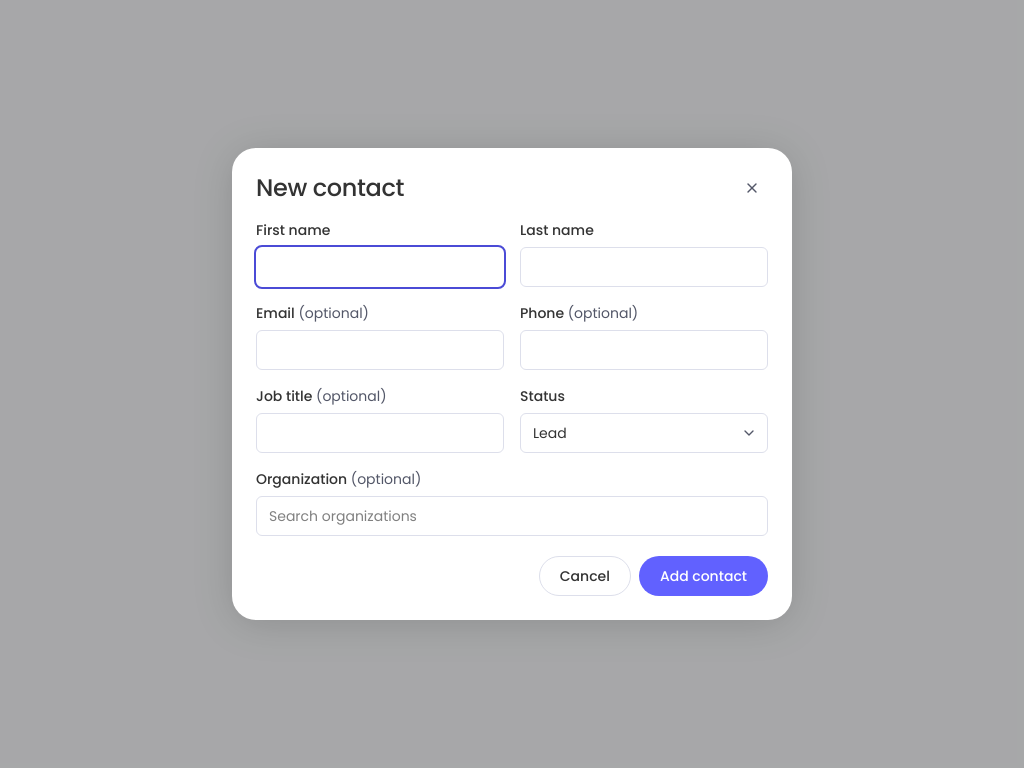
contact form › shows the backend’s duplicate email message under the field
The width and height of the screenshot is (1024, 768).
expect the dialog "New contact" is shown: met, box [232, 148, 792, 620]
Step 1. Type "Other" into the field labelled "First name" → (380, 267), box [256, 247, 504, 287]
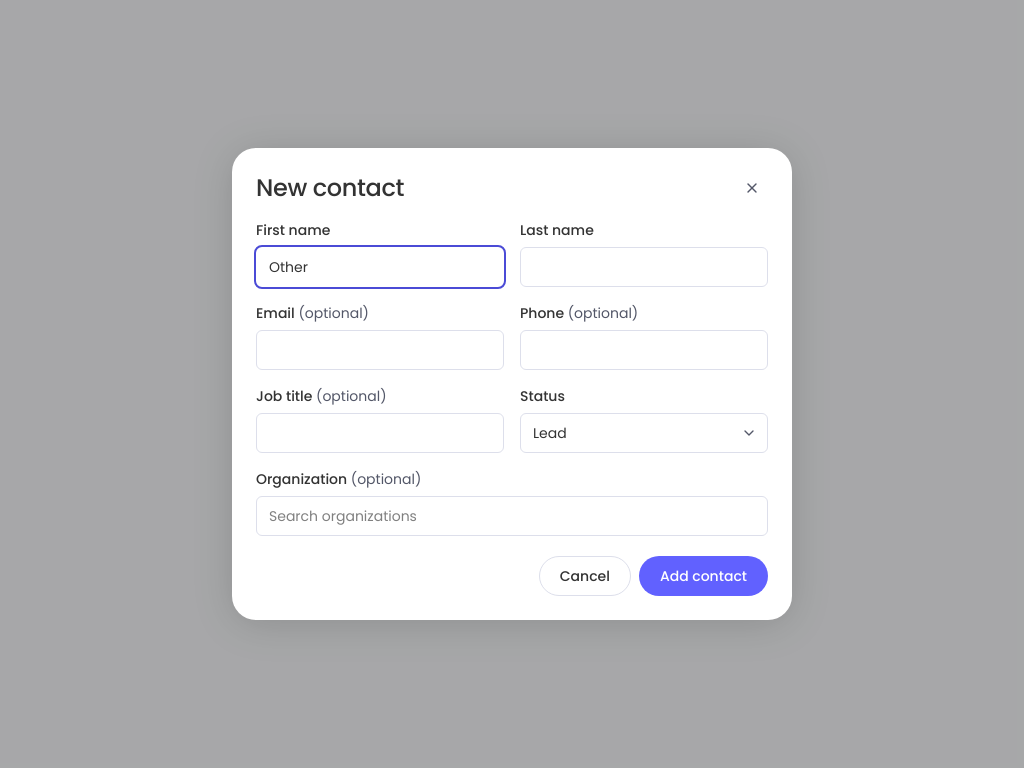
Step 2. Type "Person" into the field labelled "Last name" → (644, 267), box [520, 247, 768, 287]
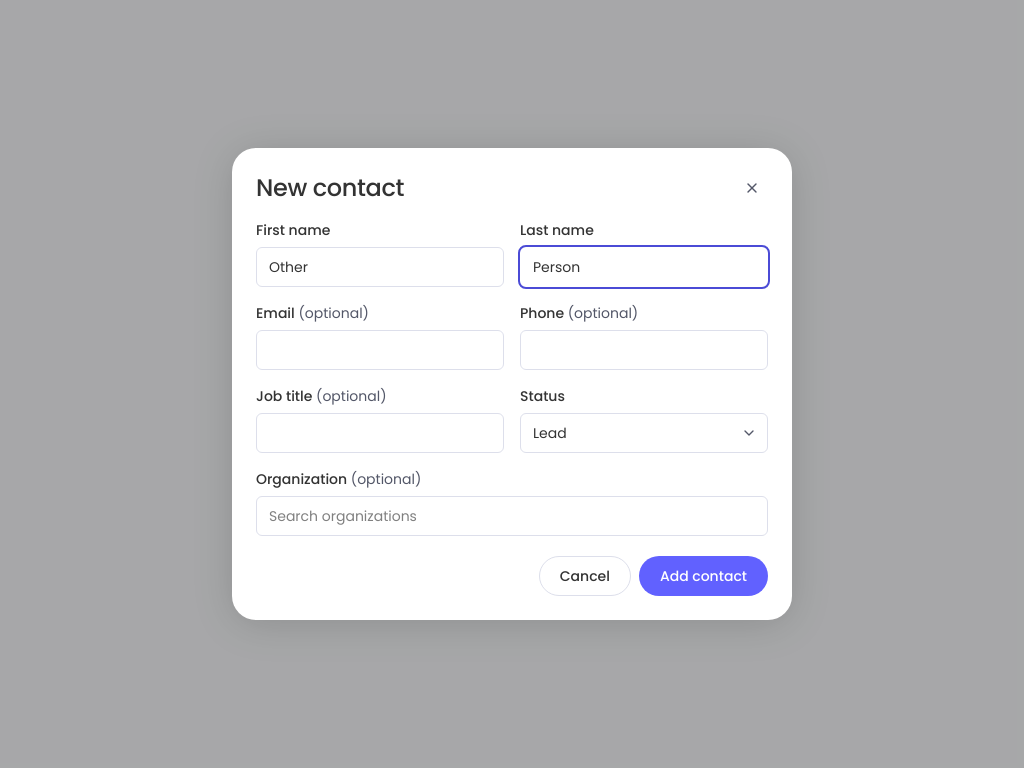
Step 3. Type "dana@acme.example" into the field labelled "Email (optional)" → (380, 350), box [256, 330, 504, 370]
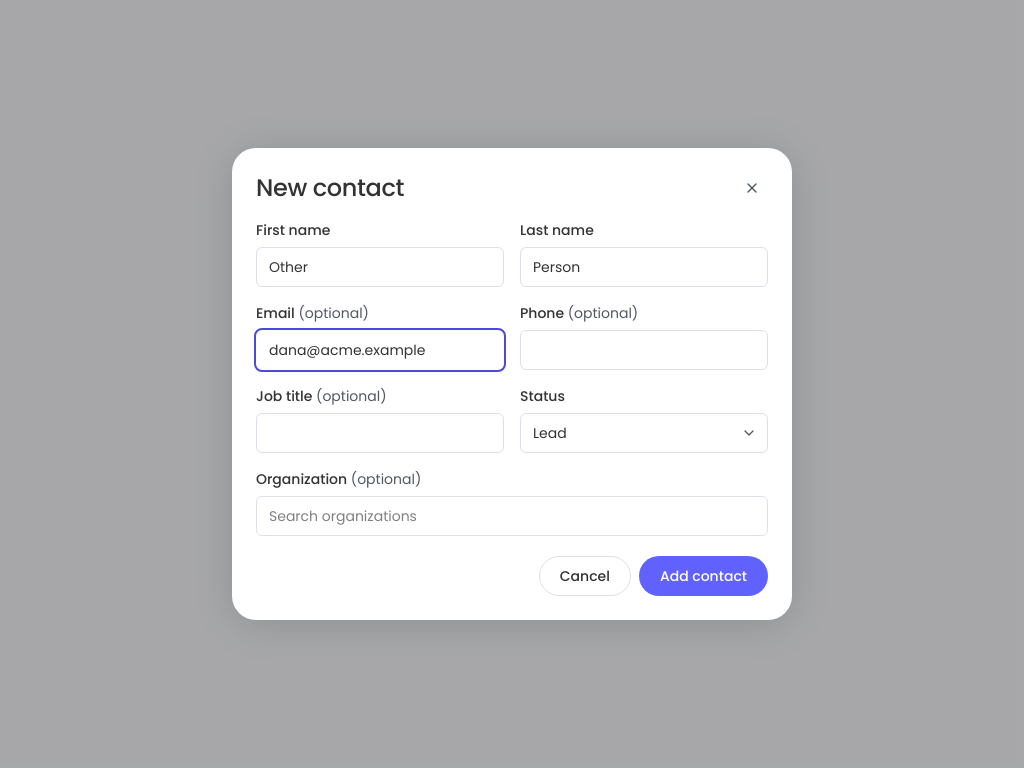
Step 4. Click the button "Add contact" → (703, 576), box [639, 556, 768, 596]
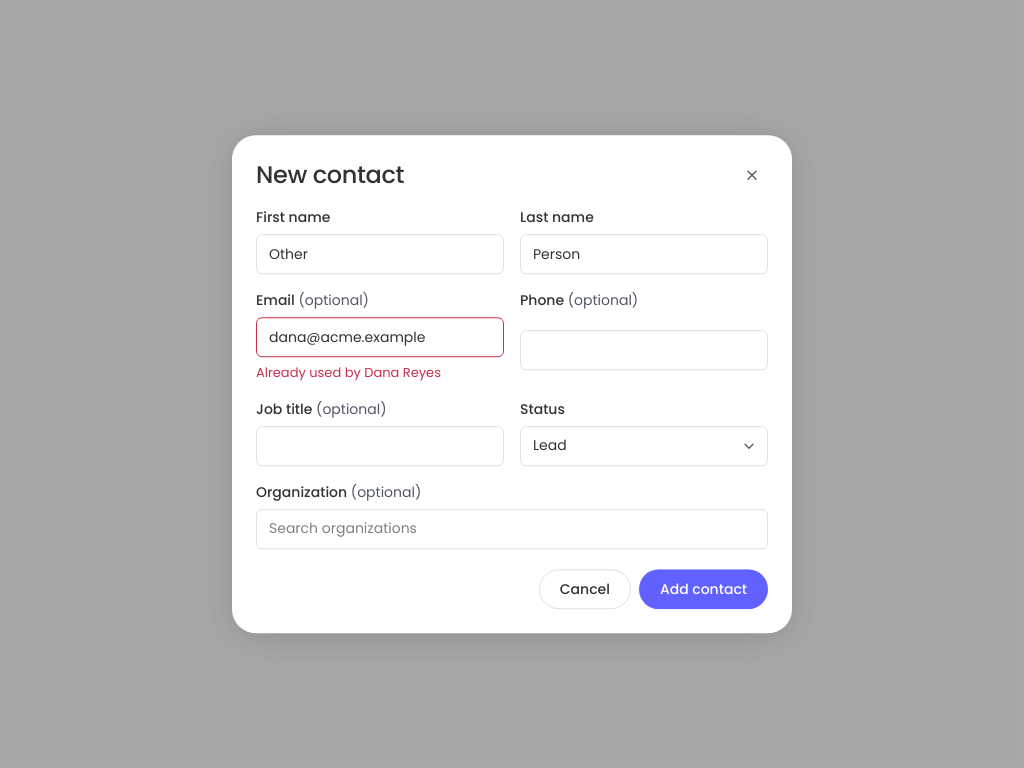
expect the text "Already used by Dana Reyes" is shown: met, box [256, 363, 441, 382]
